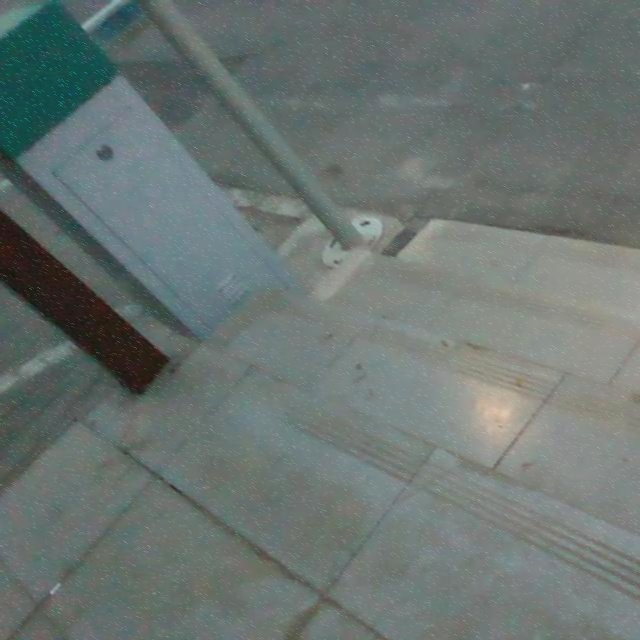stair: (284, 236, 640, 600)
